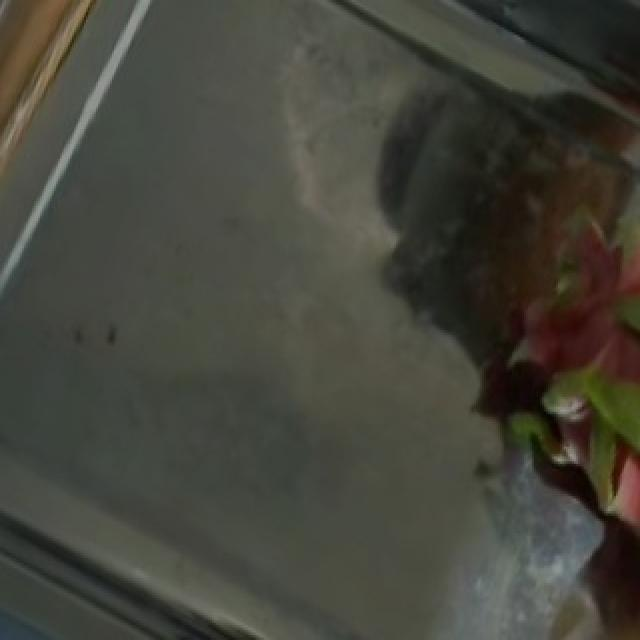fruit: (392, 174, 640, 620)
